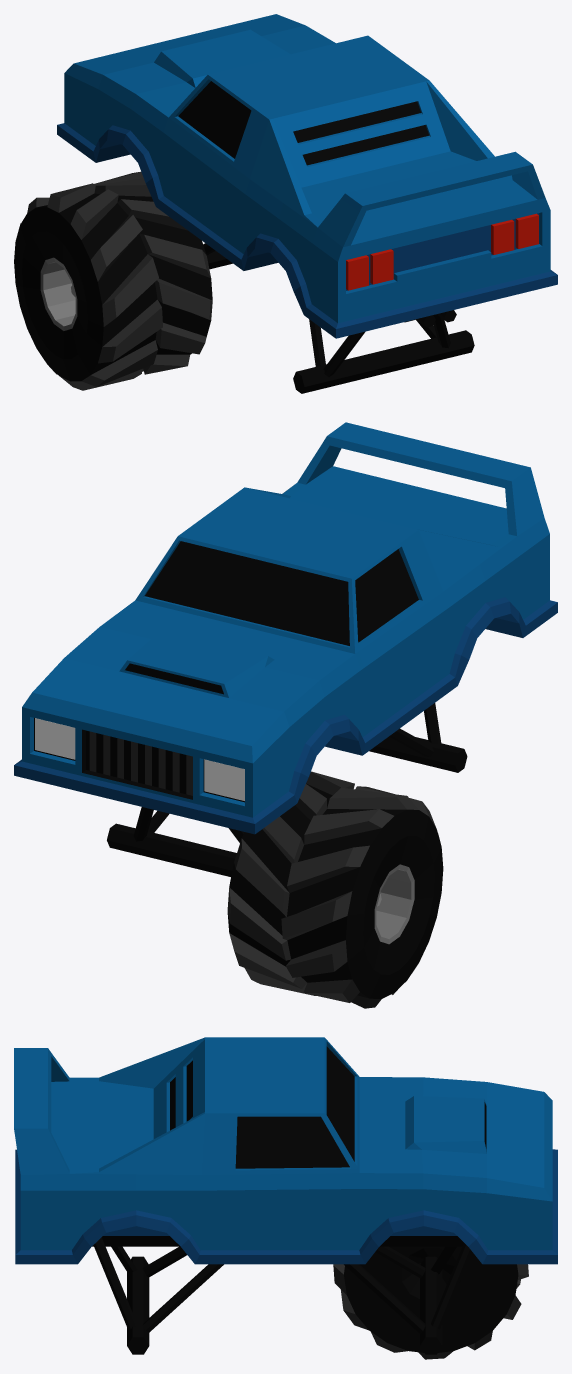
File: MonsterModel.fbx
The picture shows the model from 3 angles, top to bottom: view 1: azimuth 30°, elevation 25°; view 2: azimuth 150°, elevation 25°; view 3: azimuth 270°, elevation 25°; orthographic projection. The views are drawn at different scales.
Parts seen in each view (by area): view 1: MonterBodyMesh, MonsterWheelMesh, MonsterProtectorMesh, MonsterSuspensionMesh, MonsterBackLightsMesh; view 2: MonterBodyMesh, MonsterWheelMesh, MonsterProtectorMesh, MonsterSuspensionMesh, MonsterFrontLightsMesh; view 3: MonterBodyMesh, MonsterWheelMesh, MonsterSuspensionMesh, MonsterProtectorMesh.
Boxes of the visible parts, <box> form: MonterBodyMesh: <box>57,14,557,338</box>; MonsterWheelMesh: <box>14,193,212,381</box>; MonsterProtectorMesh: <box>20,171,212,390</box>; MonsterSuspensionMesh: <box>203,243,474,393</box>; MonsterBackLightsMesh: <box>346,213,538,290</box>; MonterBodyMesh: <box>14,422,557,834</box>; MonsterWheelMesh: <box>227,783,443,998</box>; MonsterProtectorMesh: <box>227,771,439,1008</box>; MonsterSuspensionMesh: <box>107,703,467,876</box>; MonsterFrontLightsMesh: <box>35,718,244,800</box>; MonterBodyMesh: <box>14,1037,557,1264</box>; MonsterWheelMesh: <box>344,1246,518,1352</box>; MonsterSuspensionMesh: <box>93,1237,471,1354</box>; MonsterProtectorMesh: <box>333,1264,528,1359</box>.
Size of what is drawn, in the model's own units: 188 by 201 by 311.
